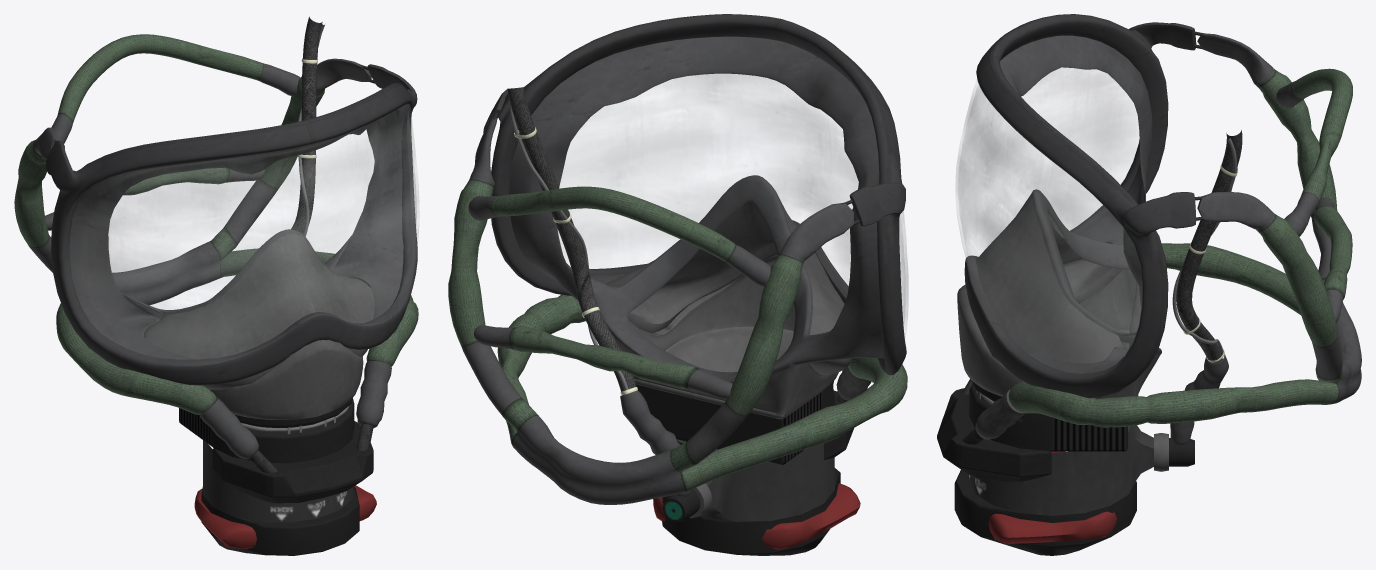
File: oxygen_mask.glb
3 views of the same model, side by side, from view 1: azimuth 30°, elevation 25°; view 2: azimuth 150°, elevation 25°; view 3: azimuth 270°, elevation 25° (orthographic). The views are drawn at different scales.
Visible parts, largest first — view 1: Oxygen_Mask; view 2: Oxygen_Mask; view 3: Oxygen_Mask.
Boxes of the visible parts, <box> form: Oxygen_Mask: <box>14,16,419,555</box>; Oxygen_Mask: <box>448,14,908,555</box>; Oxygen_Mask: <box>937,14,1361,555</box>.
Size of the model in its own units: 0.1556 by 0.1826 by 0.148.
Materials: 1 (1 with a texture image).
